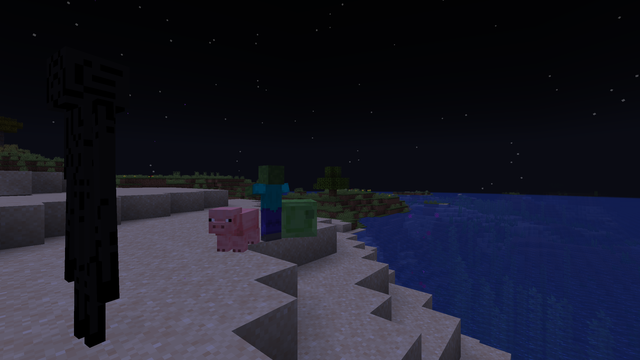cochons: (211, 207, 264, 254)
endermens: (44, 31, 133, 358)
slimes: (290, 197, 320, 238)
zombies: (255, 167, 286, 243)
